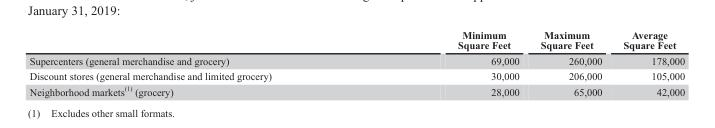table: (28, 28, 684, 97)
table column: (28, 28, 364, 97), (364, 28, 529, 97), (529, 28, 611, 97), (611, 28, 684, 97)
table column header: (28, 28, 684, 52)
table row: (28, 28, 684, 52), (28, 52, 684, 68), (28, 82, 684, 97), (28, 68, 684, 82)
